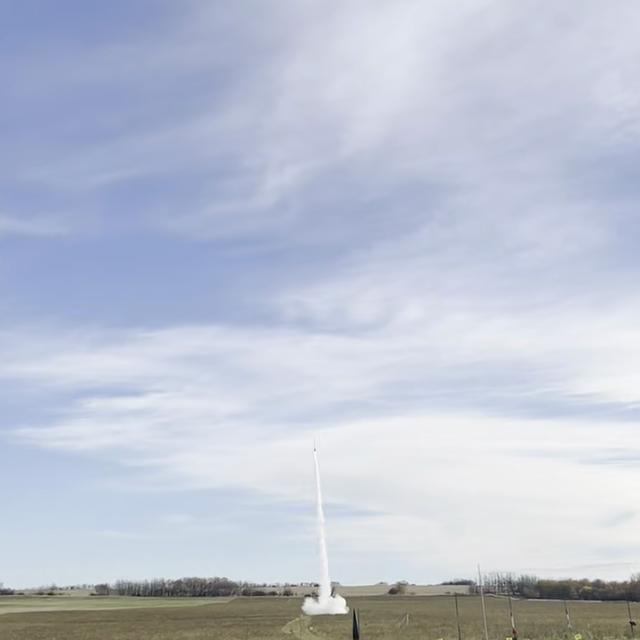smoke_trail_with_rocket: (302, 445, 348, 616)
